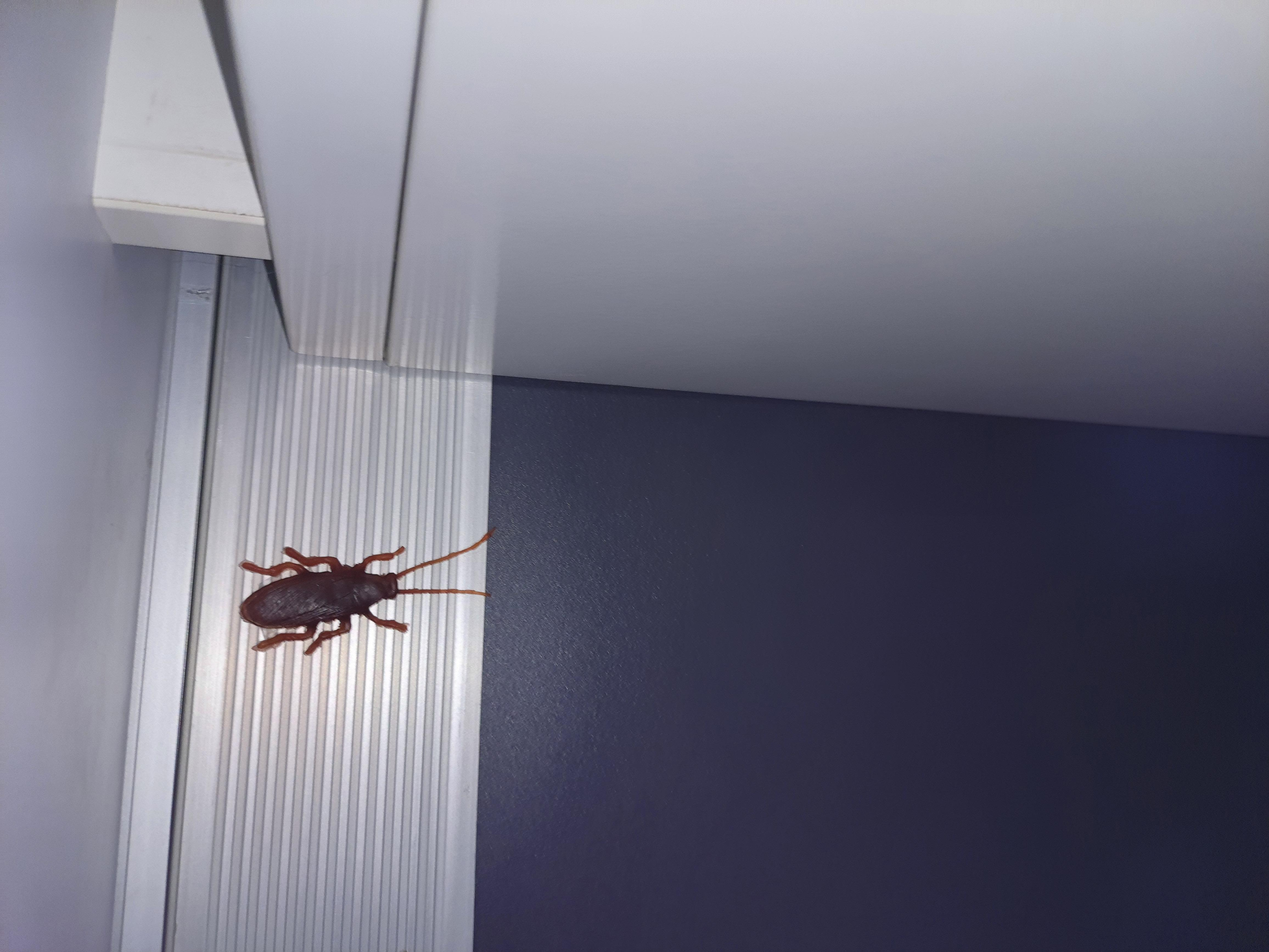cockroach: (381, 161, 574, 377)
